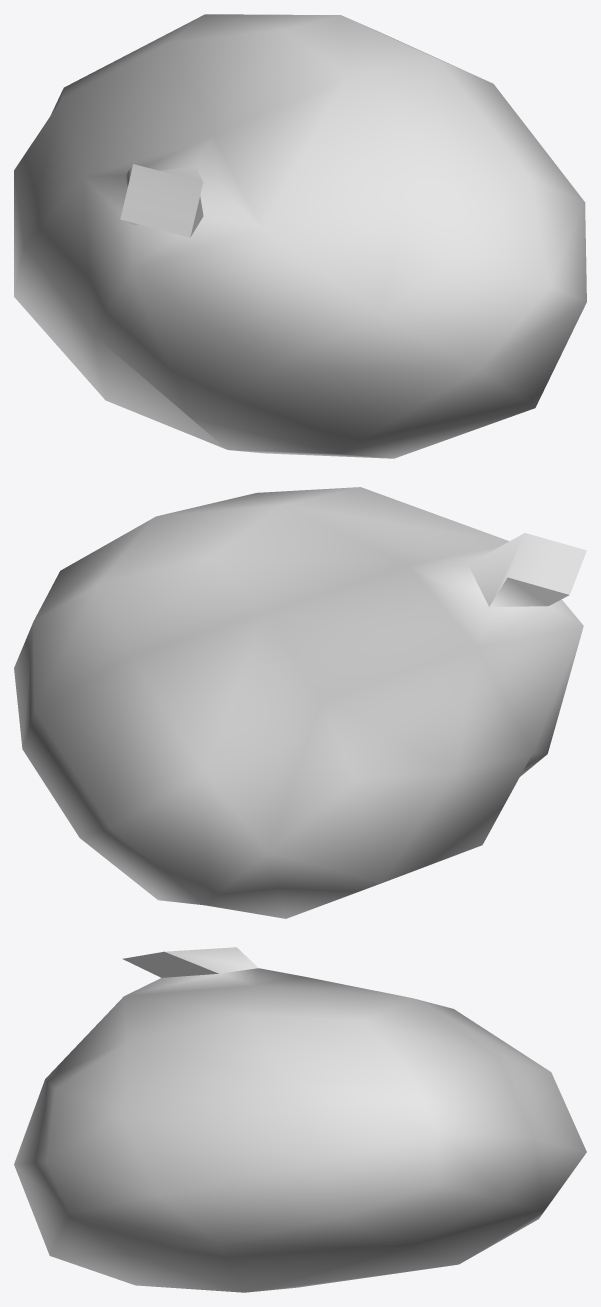
Rendered from K_GOMI08.glb.
The picture shows the model from 3 angles, top to bottom: view 1: azimuth 30°, elevation 25°; view 2: azimuth 150°, elevation 25°; view 3: azimuth 270°, elevation 25°; orthographic projection. The views are drawn at different scales.
Parts seen in each view (by area): view 1: FRAME_ROOT; view 2: FRAME_ROOT; view 3: FRAME_ROOT.
Boxes of the visible parts, box(x1,y1,x2,y2) form: FRAME_ROOT: box(14, 14, 586, 458); FRAME_ROOT: box(14, 487, 586, 918); FRAME_ROOT: box(14, 947, 586, 1292).
Size of the model in its own units: 0.8825 by 0.6046 by 1.16.
Materials: 1 (1 with a texture image).
